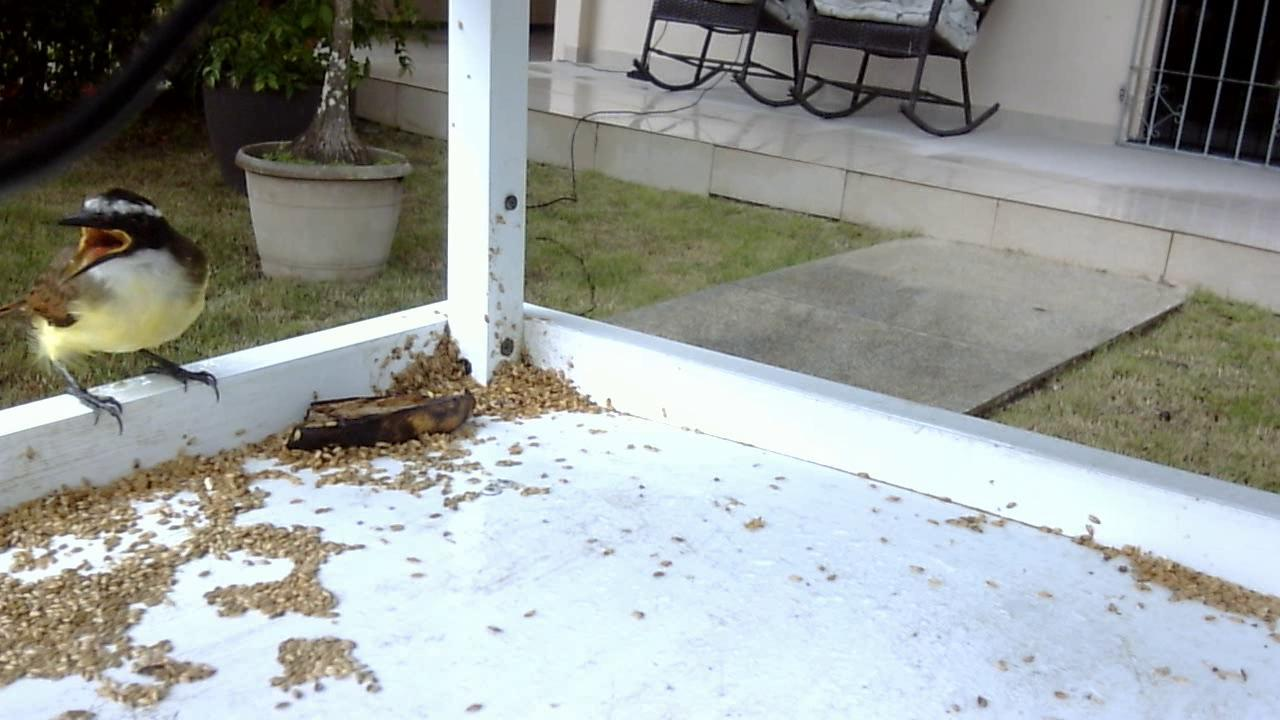bem_te_vi: (1, 178, 233, 449)
